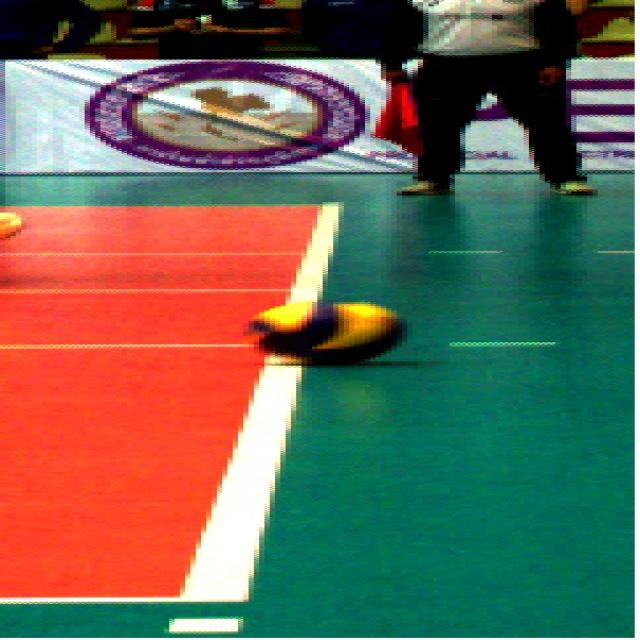Volleyball: (250, 299, 406, 362)
